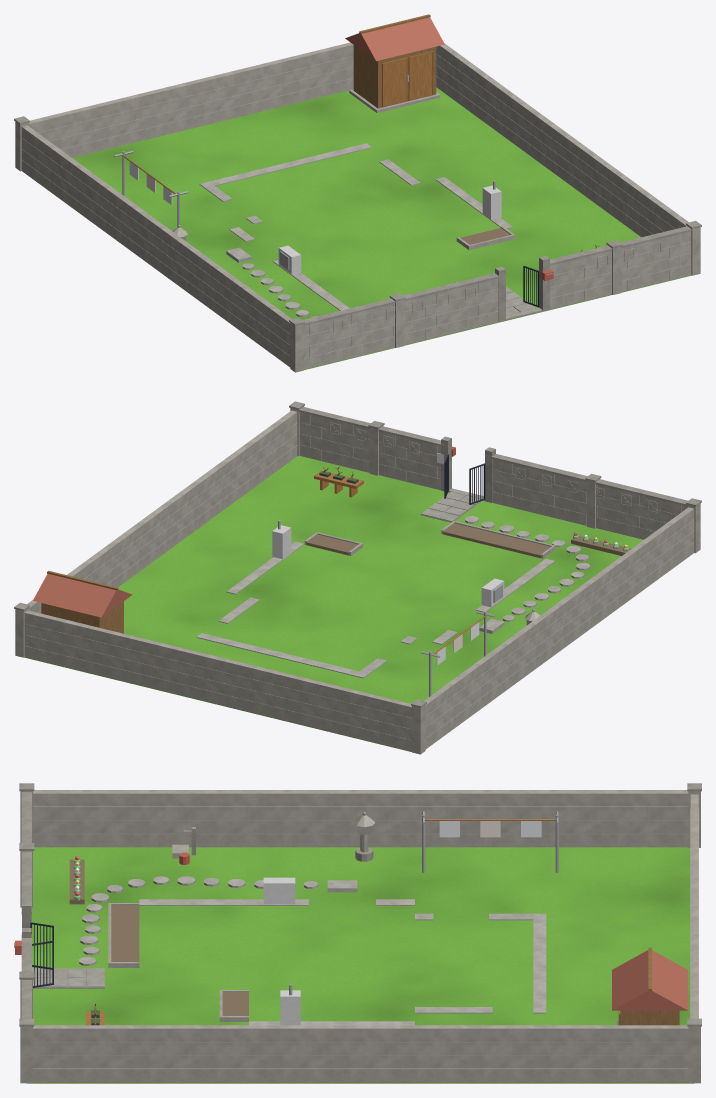
The model's file is environment.glb.
3 views of the same model, one above another, from view 1: azimuth 30°, elevation 25°; view 2: azimuth 150°, elevation 25°; view 3: azimuth 270°, elevation 25° (orthographic). The views are drawn at different scales.
Parts seen in each view (by area): view 1: yard, wall_front_left, joint_h_front_l_1, path_stone_0, wall_coping_left, shed_roof, shed_walls, shed_door_0, ac_unit, gate_threshold; view 2: yard, wall_front_left, joint_h_front_l_1, path_stone_0, wall_coping_left, flowerbed_soil, shed_roof, shed_walls, gate_threshold, ac_unit, shed_door_0, gate_l_hinge_stile; view 3: yard, wall_front_left, path_stone_0, joint_h_front_l_1, wall_coping_left, shed_roof, flowerbed_soil, ac_unit, gate_threshold, shed_walls, gate_l_hinge_stile, laundry_towel_0 (+1 smaller).
Boxes of the visible parts, x1,y1,x2,y2 form: yard: (72,87,691,369); wall_front_left: (15,42,700,372); joint_h_front_l_1: (21,54,691,365); path_stone_0: (199,143,512,317); wall_coping_left: (14,116,701,325); shed_roof: (345,17,444,61); shed_walls: (353,14,436,108); shed_door_0: (123,51,432,193); ac_unit: (278,185,501,274); gate_threshold: (506,286,542,320); yard: (24,456,643,751); wall_front_left: (15,406,700,754); joint_h_front_l_1: (25,414,693,740); path_stone_0: (196,516,590,678); wall_coping_left: (14,401,701,707); flowerbed_soil: (306,523,631,558); shed_roof: (33,573,132,617); shed_walls: (41,570,123,633); gate_threshold: (421,488,484,521); ac_unit: (272,525,504,607); shed_door_0: (314,470,485,654); gate_l_hinge_stile: (444,454,485,504); yard: (27,847,694,1083); wall_front_left: (20,790,700,1083); path_stone_0: (79,876,546,1025); joint_h_front_l_1: (33,806,698,1069); wall_coping_left: (14,783,701,1026); shed_roof: (612,950,687,1010); flowerbed_soil: (69,859,248,1015); ac_unit: (263,877,300,1025); gate_threshold: (32,968,104,987); shed_walls: (618,947,679,1025); gate_l_hinge_stile: (30,922,53,987); laundry_towel_0: (439,821,541,837).
Size of the model in its own units: 15.38 by 2.68 by 18.55.
Materials: 24 (8 with a texture image).
